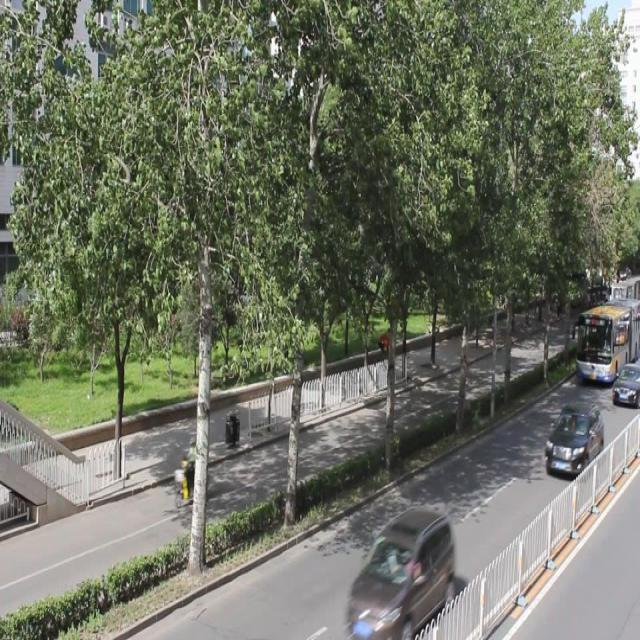BigCar: (574, 295, 628, 390)
car: (347, 505, 452, 640), (542, 407, 618, 502), (618, 359, 640, 420)
